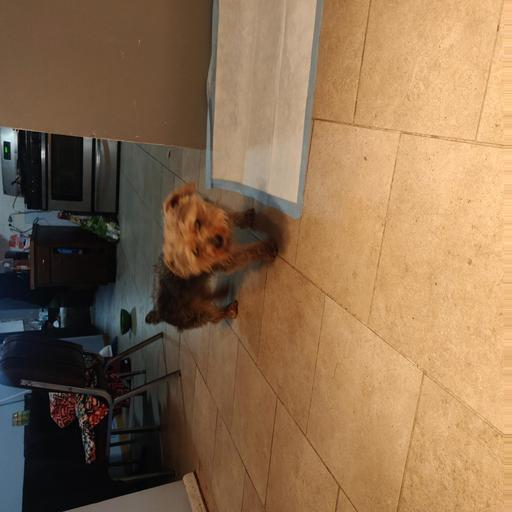dog: (127, 175, 261, 309)
